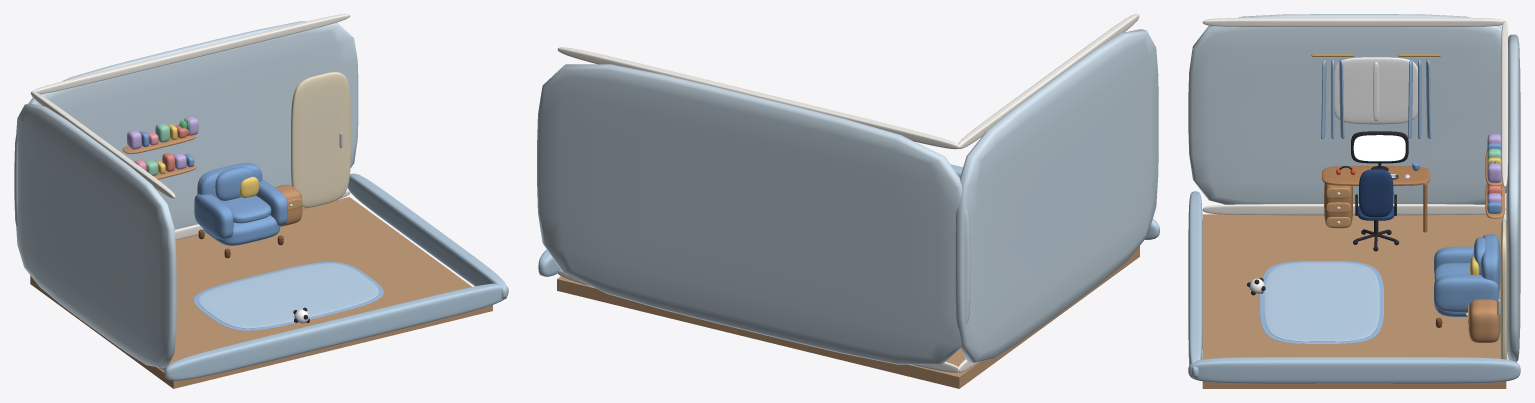
File: casa_cuarto_el.glb
The picture shows the model from 3 angles, left to right: view 1: azimuth 30°, elevation 25°; view 2: azimuth 150°, elevation 25°; view 3: azimuth 270°, elevation 25°; orthographic projection. The views are drawn at different scales.
Visible parts, largest first — view 1: pared izquierda.003, pared fondo.003, piso.003, muro bajo frente.003, tapete.003, puerta.003, muro bajo derecha.003, cornisa fondo.003, brazo sillón, cornisa izquierda.003, borde tapete.003, base sillón (+6 smaller); view 2: pared fondo.003, pared izquierda.003, piso.003, cornisa fondo.003, cornisa izquierda.003; view 3: pared izquierda.003, piso.003, tapete.003, muro bajo derecha.003, marco.001, pared fondo.003, cornisa izquierda.003, muro bajo frente.003, zócalo izquierdo.003, brazo sillón.001, espaldar gamer, tabla escritorio (+17 smaller).
Boxes of the visible parts, box(x1,y1,x2,y2) form: pared izquierda.003: box(16, 103, 176, 368); pared fondo.003: box(14, 21, 358, 229); piso.003: box(30, 197, 492, 388); muro bajo frente.003: box(164, 283, 508, 380); tapete.003: box(198, 263, 378, 328); puerta.003: box(291, 72, 350, 207); muro bajo derecha.003: box(347, 173, 507, 299); cornisa fondo.003: box(30, 14, 350, 94); brazo sillón: box(194, 194, 233, 239); cornisa izquierda.003: box(31, 91, 175, 198); borde tapete.003: box(193, 261, 383, 330); base sillón: box(203, 215, 280, 245); pared fondo.003: box(537, 64, 970, 364); pared izquierda.003: box(955, 29, 1158, 362); piso.003: box(557, 246, 1139, 388); cornisa fondo.003: box(557, 47, 959, 149); cornisa izquierda.003: box(957, 14, 1139, 148); pared izquierda.003: box(1188, 14, 1520, 204); piso.003: box(1202, 214, 1506, 388); tapete.003: box(1264, 262, 1379, 341); muro bajo derecha.003: box(1188, 357, 1520, 383); marco.001: box(1334, 57, 1417, 124); pared fondo.003: box(1506, 34, 1520, 362); cornisa izquierda.003: box(1202, 17, 1504, 27); muro bajo frente.003: box(1188, 191, 1202, 378); zócalo izquierdo.003: box(1202, 204, 1506, 215); brazo sillón.001: box(1434, 274, 1498, 312); espaldar gamer: box(1359, 169, 1393, 217); tabla escritorio: box(1322, 166, 1430, 185).
Size of the model in its own units: 5.8 by 3.15 by 4.6.
